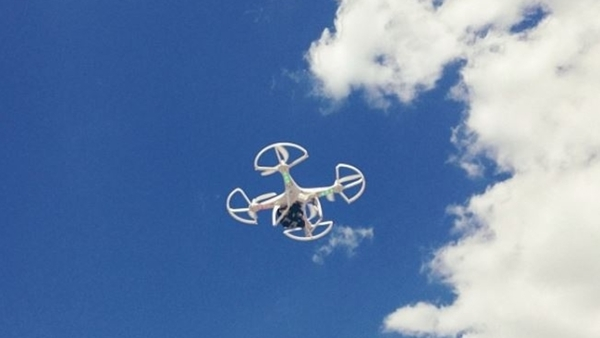drone: (224, 140, 368, 243)
